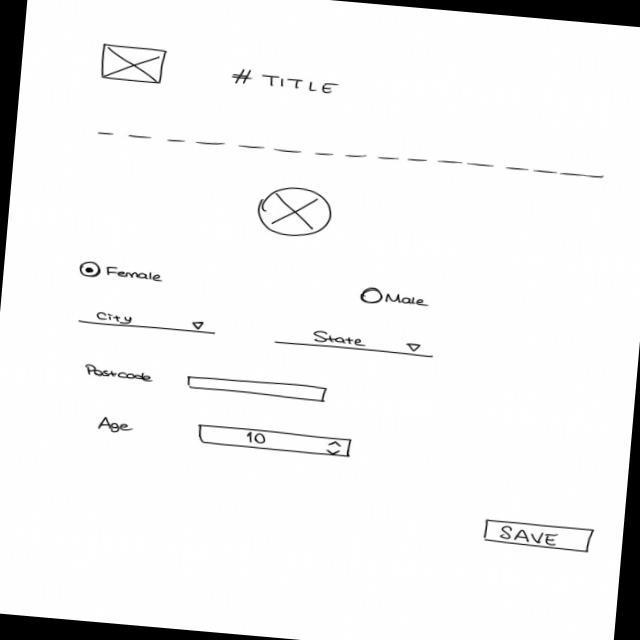button: (481, 518, 598, 556)
image: (255, 184, 337, 242), (98, 42, 169, 86)
input: (186, 374, 331, 405)
label: (228, 67, 343, 98), (83, 361, 156, 384), (94, 415, 137, 437)
number-input: (195, 423, 356, 460)
radio: (75, 259, 167, 287), (358, 286, 437, 311)
select: (273, 326, 437, 359), (78, 307, 221, 337)
